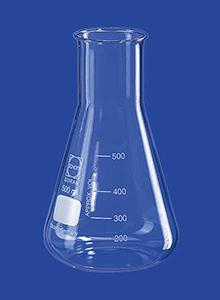Titrarion: (29, 19, 190, 270)
